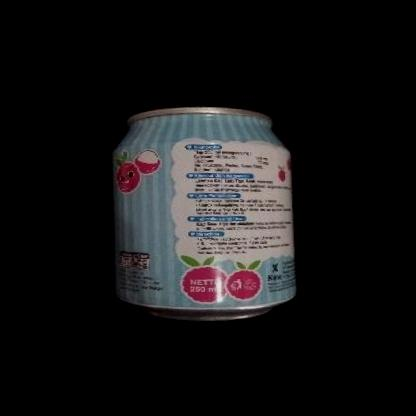alumunium_can: (103, 99, 308, 328)
